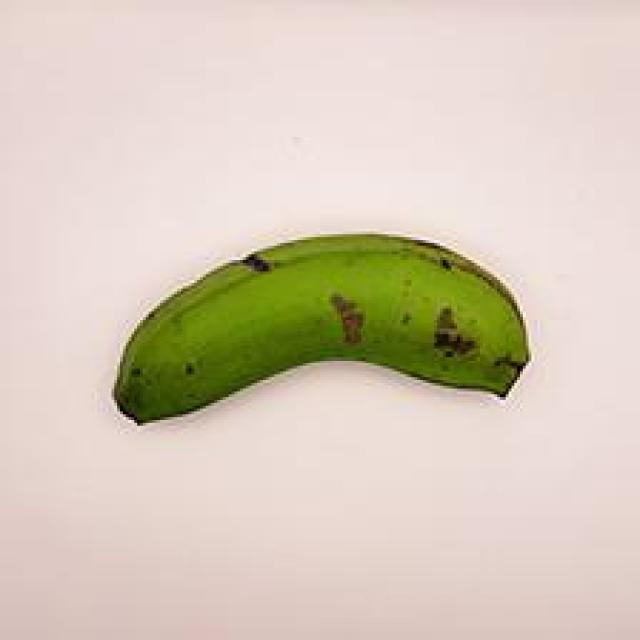Raw: (90, 200, 553, 450)
